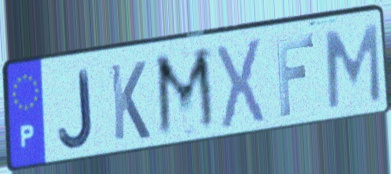F: (273, 32, 317, 120)
J: (56, 67, 95, 152)
K: (107, 58, 152, 144)
M: (152, 44, 220, 143), (323, 20, 384, 112)
X: (213, 35, 267, 133)
